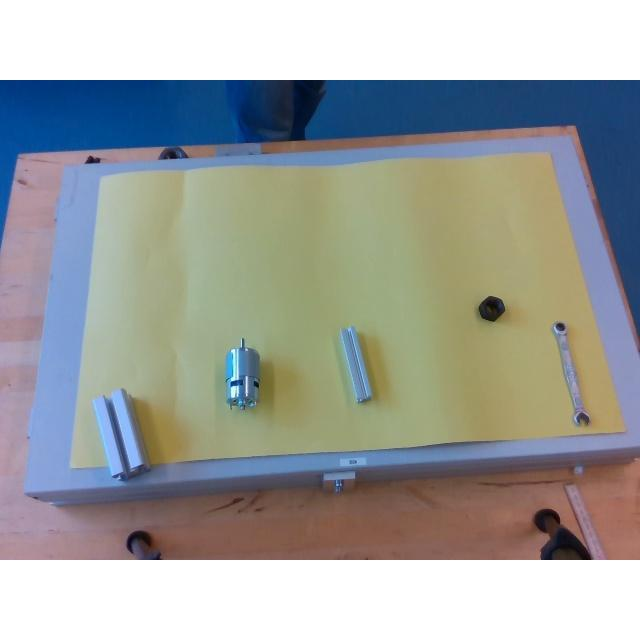F20_20_G: (340, 326, 372, 400)
M20: (478, 295, 506, 321)
Motor2: (226, 338, 260, 407)
S40_40_G: (92, 388, 148, 478)
Wrench: (552, 322, 588, 426)
